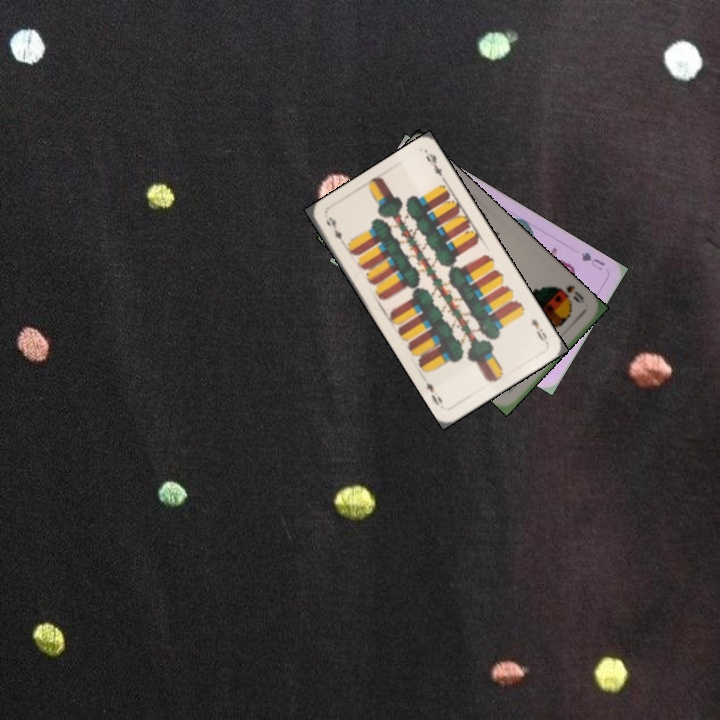E9: (527, 315, 550, 344), (322, 213, 344, 242)
GU: (575, 248, 608, 273)
SO: (562, 281, 587, 306)
